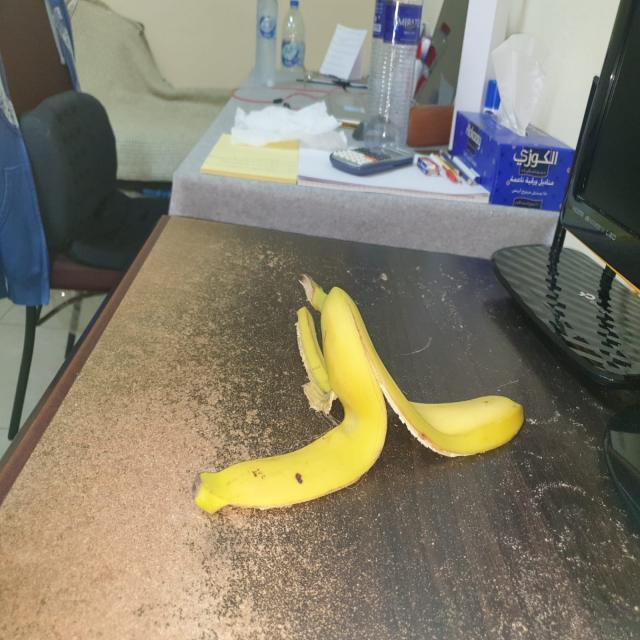banana-peel: (192, 271, 528, 514)
